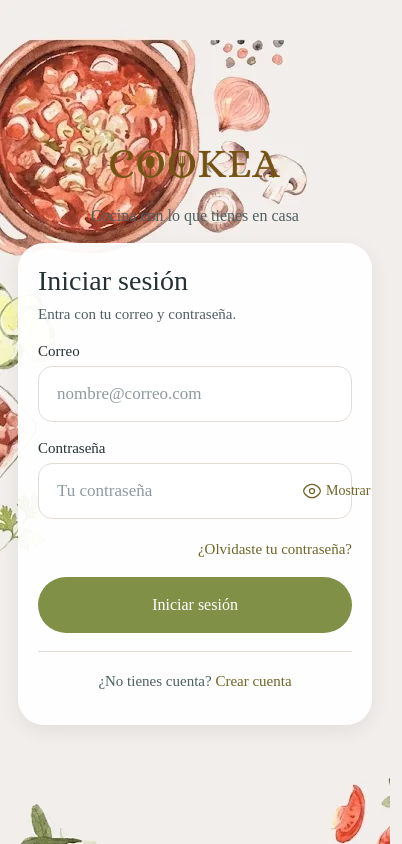
Test: acceso muestra errores junto a los campos y no consulta Auth con datos incompletos
Click the button "Iniciar sesión".
click(195, 605)  # box [38,577,352,633]
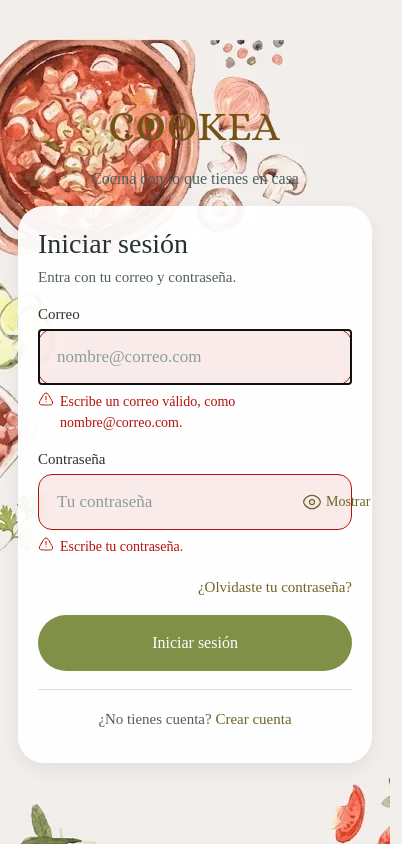
Expected: the text "Escribe un correo válido, como nombre@correo.com." is shown, [60,394,239,430]
Expected: the text "Escribe tu contraseña." is shown, [60,538,183,554]
